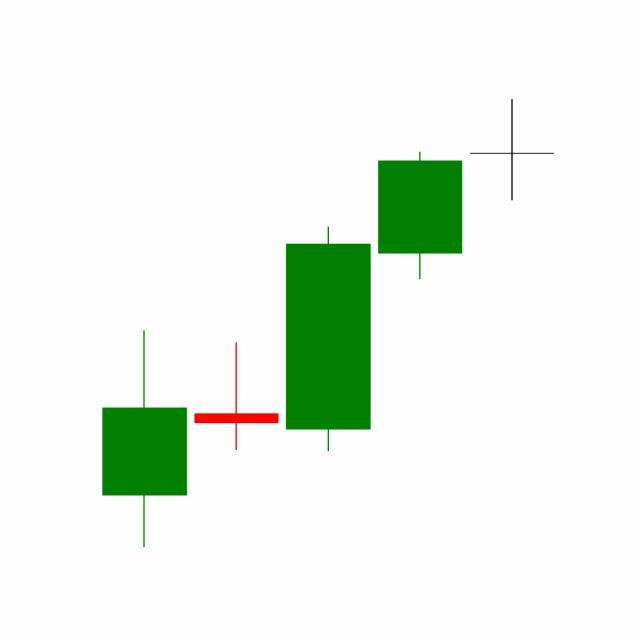Three Outside Up-Down: (190, 149, 467, 456)
